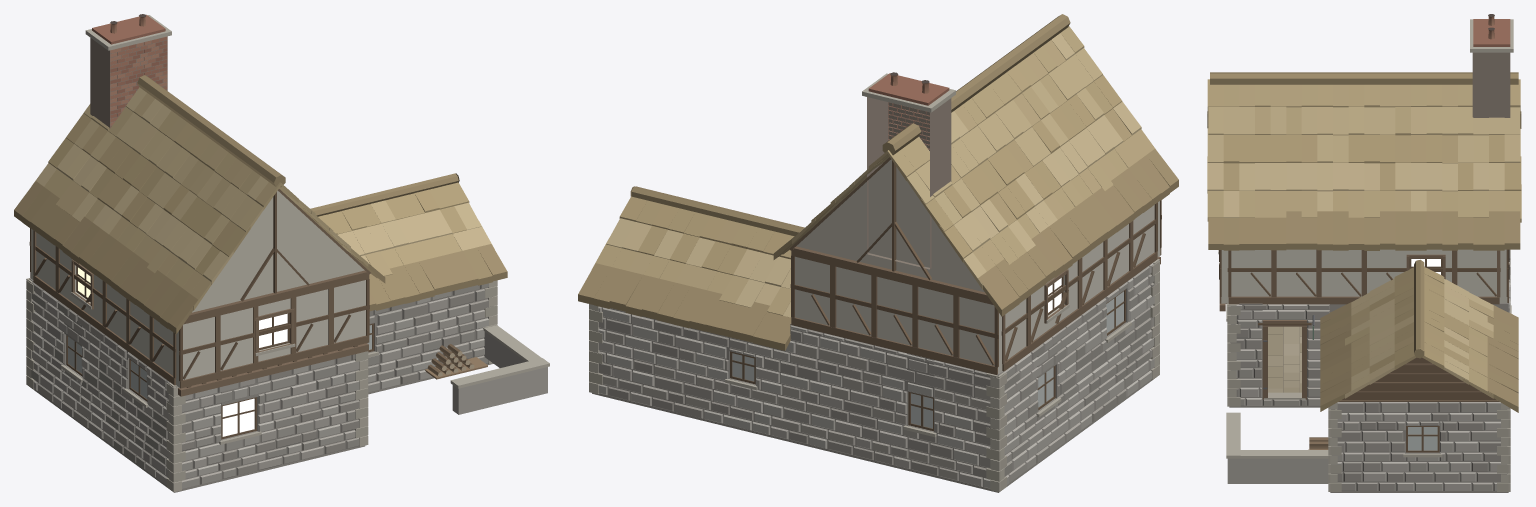
The model's file is kitchen-character.glb.
The picture shows the model from 3 angles, left to right: view 1: azimuth 30°, elevation 25°; view 2: azimuth 150°, elevation 25°; view 3: azimuth 270°, elevation 25°; orthographic projection. The views are drawn at different scales.
Visible parts, largest first — view 1: Kitchen_Roof_Thatch, Kitchen_Shell_Facing, Kitchen_UpperShell_Frame, Kitchen_Roof_Gables, Kitchen_Shell_Walls, Kitchen_Chimney_Stack, Kitchen_Court_Dressing, Kitchen_Shell_Quoins, Kitchen_Glazing_Windows, Kitchen_UpperShell_Glazing; view 2: Kitchen_Roof_Thatch, Kitchen_Shell_Facing, Kitchen_UpperShell_Frame, Kitchen_Roof_Gables, Kitchen_Shell_Walls, Kitchen_Chimney_Stack, Kitchen_Shell_Quoins, Kitchen_Glazing_Windows; view 3: Kitchen_Roof_Thatch, Kitchen_Shell_Facing, Kitchen_UpperShell_Frame, Kitchen_Court_Dressing, Kitchen_Shell_Walls, Kitchen_Chimney_Stack, Kitchen_Roof_StoreGable, Kitchen_Shell_Quoins, Kitchen_Floor_Flags, Kitchen_Glazing_Windows, Kitchen_Shell_DoorFrame.
Boxes of the visible parts, x1,y1,x2,y2 form: Kitchen_Roof_Thatch: (14,75,507,334); Kitchen_Shell_Facing: (28,282,493,488); Kitchen_UpperShell_Frame: (29,228,369,396); Kitchen_Roof_Gables: (188,189,370,317); Kitchen_Shell_Walls: (29,278,493,492); Kitchen_Chimney_Stack: (85,14,171,128); Kitchen_Court_Dressing: (425,325,549,414); Kitchen_Shell_Quoins: (26,278,497,492); Kitchen_Glazing_Windows: (61,323,378,444); Kitchen_UpperShell_Glazing: (71,266,295,356); Kitchen_Roof_Thatch: (578,14,1178,350); Kitchen_Shell_Facing: (593,263,1157,488); Kitchen_UpperShell_Frame: (790,200,1161,374); Kitchen_Roof_Gables: (789,157,988,297); Kitchen_Shell_Walls: (592,273,1152,492); Kitchen_Chimney_Stack: (862,72,955,269); Kitchen_Shell_Quoins: (589,259,1159,492); Kitchen_Glazing_Windows: (725,289,1131,437); Kitchen_Roof_Thatch: (1207,72,1521,412); Kitchen_Shell_Facing: (1230,250,1510,490); Kitchen_UpperShell_Frame: (1219,249,1509,311); Kitchen_Court_Dressing: (1226,315,1328,483); Kitchen_Shell_Walls: (1229,303,1508,492); Kitchen_Chimney_Stack: (1470,14,1513,117); Kitchen_Roof_StoreGable: (1338,357,1499,401); Kitchen_Shell_Quoins: (1227,250,1510,491); Kitchen_Floor_Flags: (1268,326,1301,392); Kitchen_Glazing_Windows: (1226,304,1511,457); Kitchen_Shell_DoorFrame: (1258,320,1311,399).
Size of the model in its own units: 12.88 by 11.1 by 9.35.
